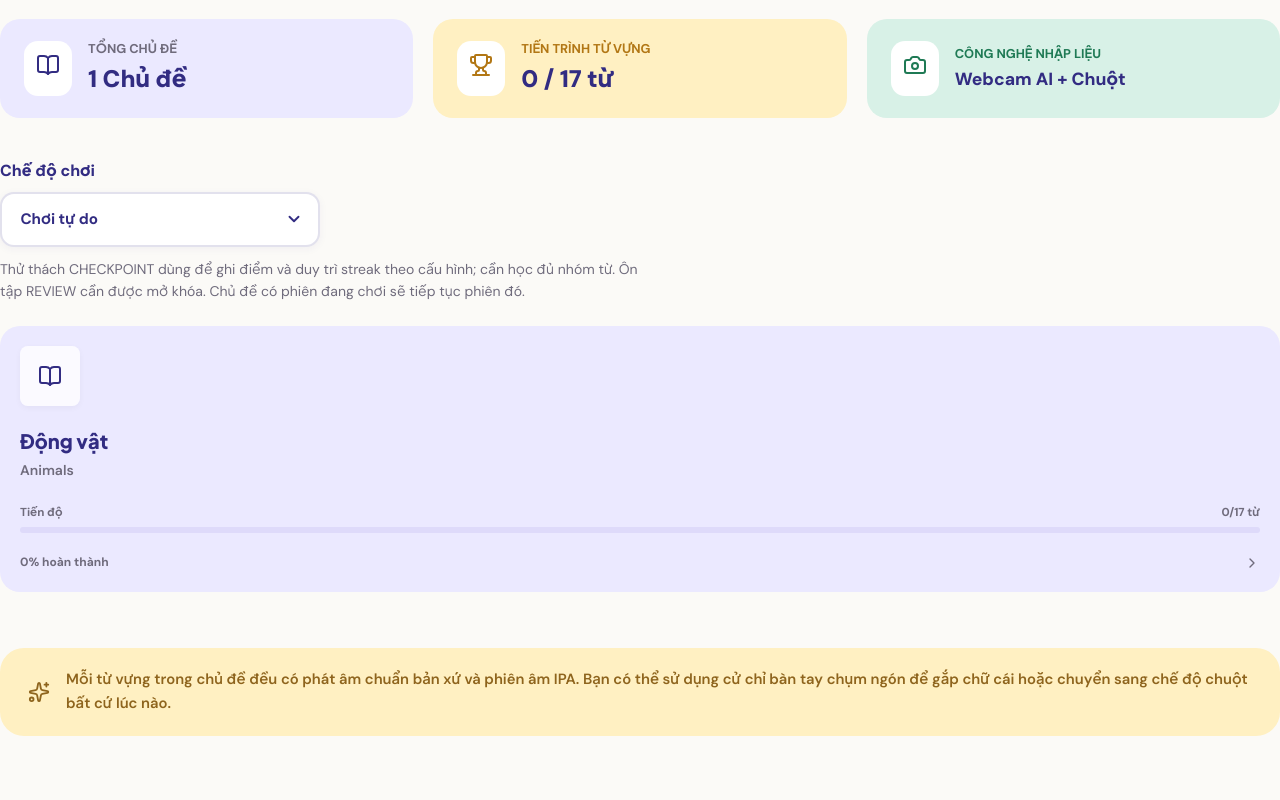
Test case: hides REVIEW option when reviewUnlocked is false and disables CHECKPOINT when fewer than 5 words learned
(page scrolled)
What coordinates should you click on to do the following:
click the button "Động vật Animals Tiến độ 0/17 từ 0% hoàn thành"
I would click on:
 (640, 576)
Its box is [0,326,1279,592].
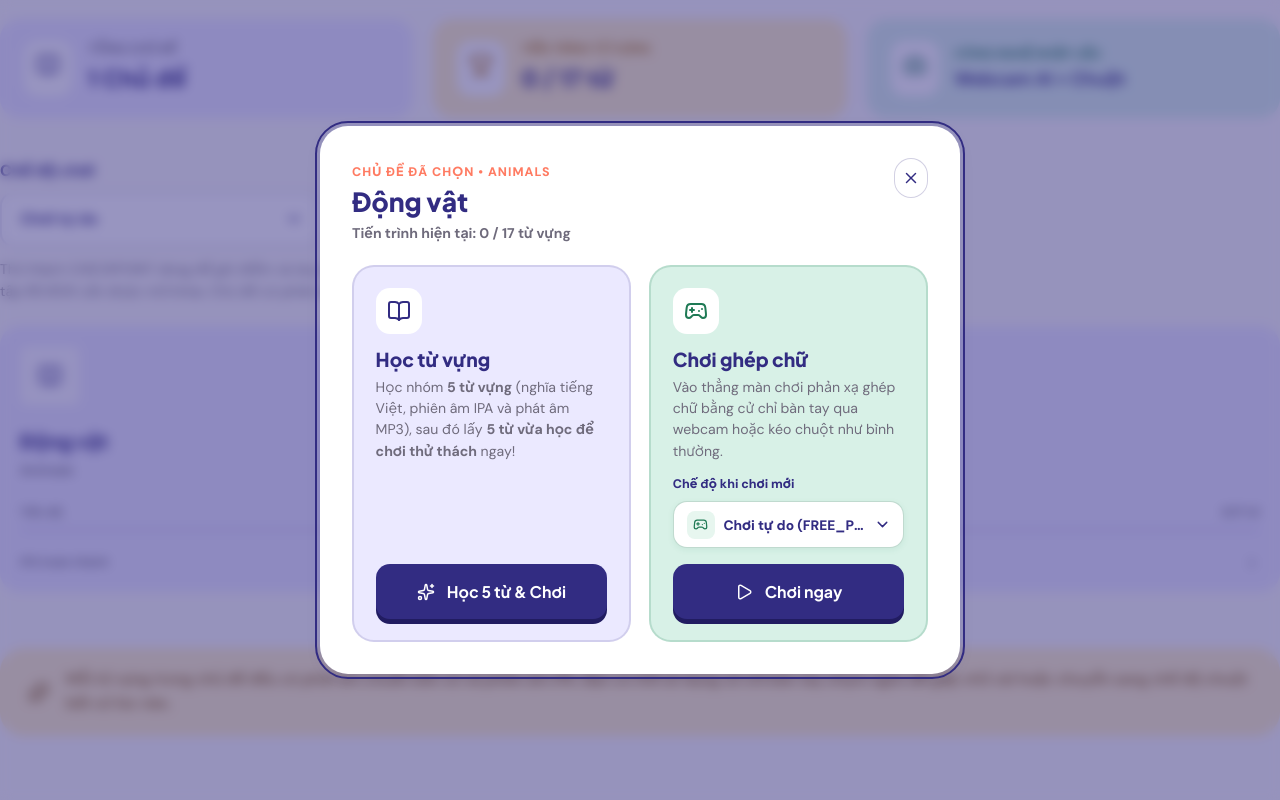
What coordinates should you click on to do the following:
click the button named "Chế độ khi chơi mới"
I would click on:
 (789, 525)
Its box is [673,501,904,548].
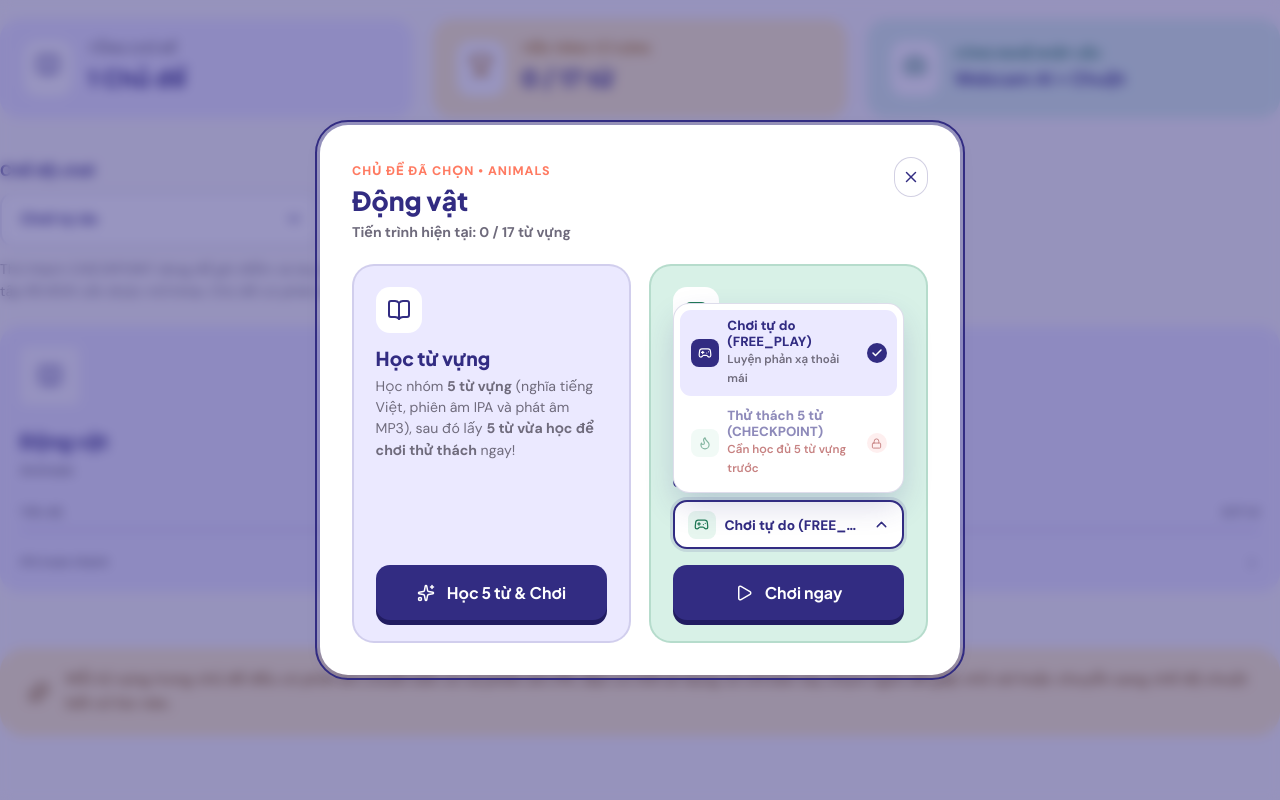
Check: the option "Thử thách 5 từ (CHECKPOINT) Cần học đủ 5 từ vựng trước" is disabled, box [680,400,897,486]
